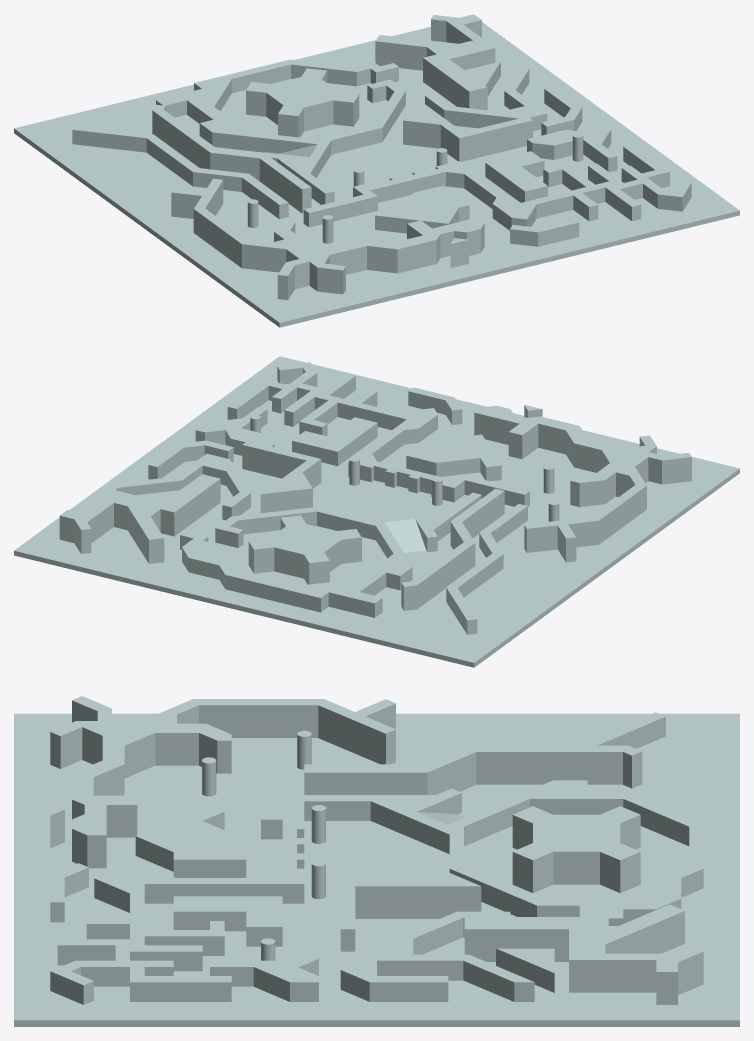
File: maze.dae
The picture shows the model from 3 angles, top to bottom: view 1: azimuth 30°, elevation 25°; view 2: azimuth 150°, elevation 25°; view 3: azimuth 270°, elevation 25°; orthographic projection. The views are drawn at different scales.
Visible parts, largest first — view 1: ID2; view 2: ID2; view 3: ID2.
Boxes of the visible parts, x1,y1,x2,y2 form: ID2: (14, 14, 739, 327); ID2: (14, 356, 739, 667); ID2: (14, 696, 739, 1026).
Bounding box in the file's own units: 100 × 100 × 6.
